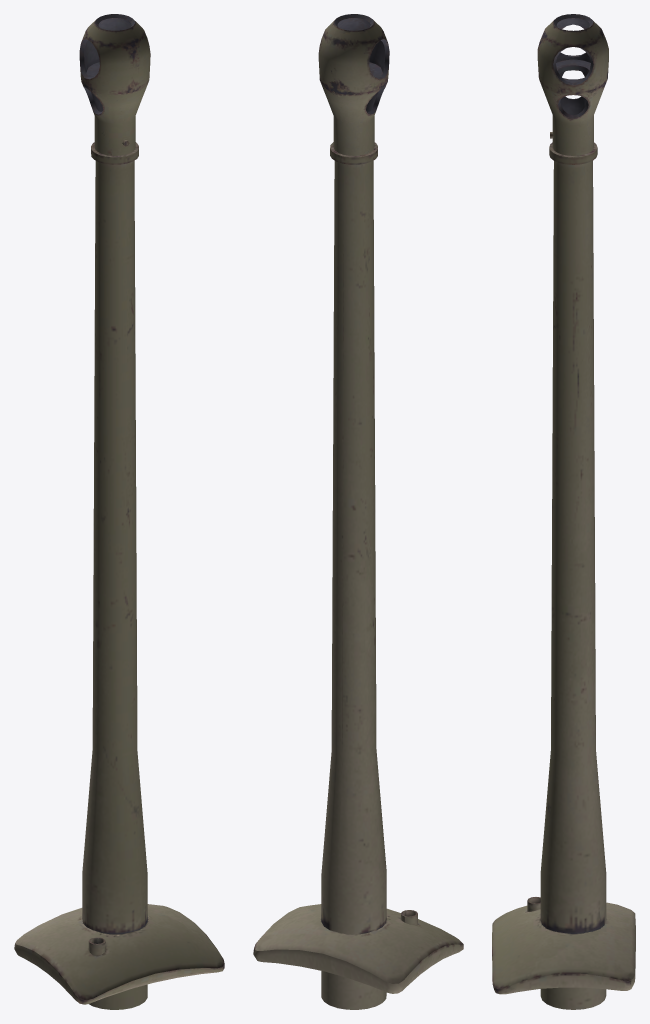
File: Gun_02.glb
3 views of the same model, side by side, from view 1: azimuth 30°, elevation 25°; view 2: azimuth 150°, elevation 25°; view 3: azimuth 270°, elevation 25° (orthographic).
Parts seen in each view (by area): view 1: set_0_group_0; view 2: set_0_group_0; view 3: set_0_group_0.
Part boxes in pixels (x1,y1,x2,y2): set_0_group_0: (14,14,224,1009); set_0_group_0: (253,14,463,1009); set_0_group_0: (492,14,635,1009).
Size of the model in its own units: 0.5211 by 3.25 by 0.4351.
Materials: 1 (1 with a texture image).
